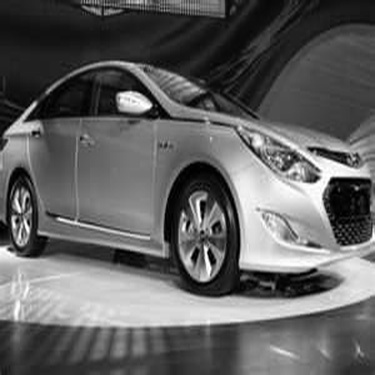car: (8, 42, 368, 294)
